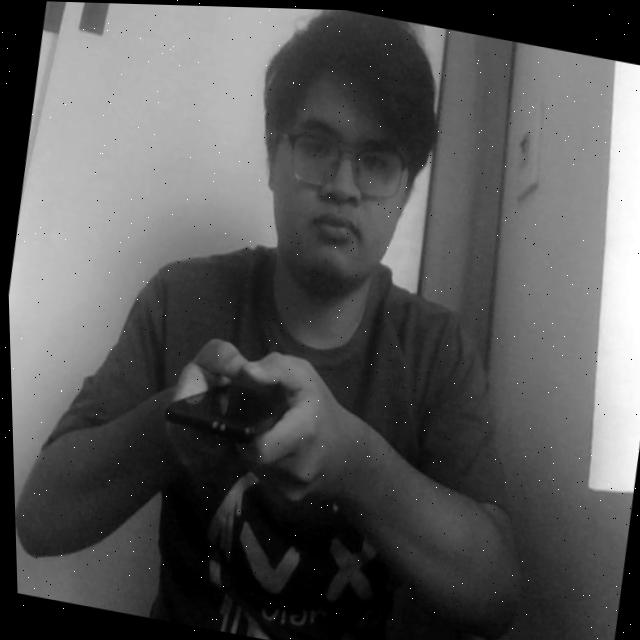phone: (146, 331, 307, 483)
